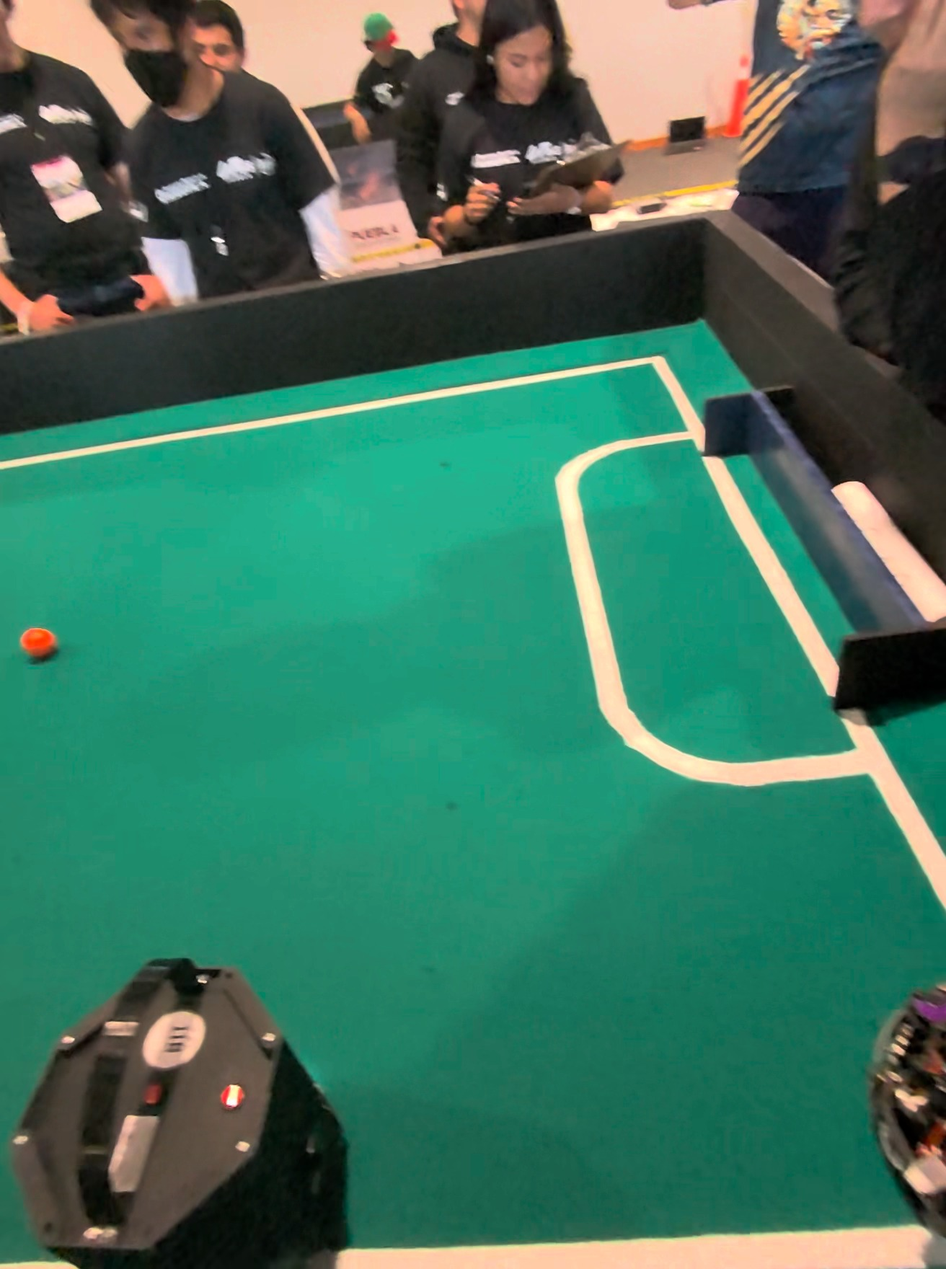Robot: (7, 946, 378, 1266), (870, 951, 946, 1250)
pelota: (19, 626, 56, 662)
